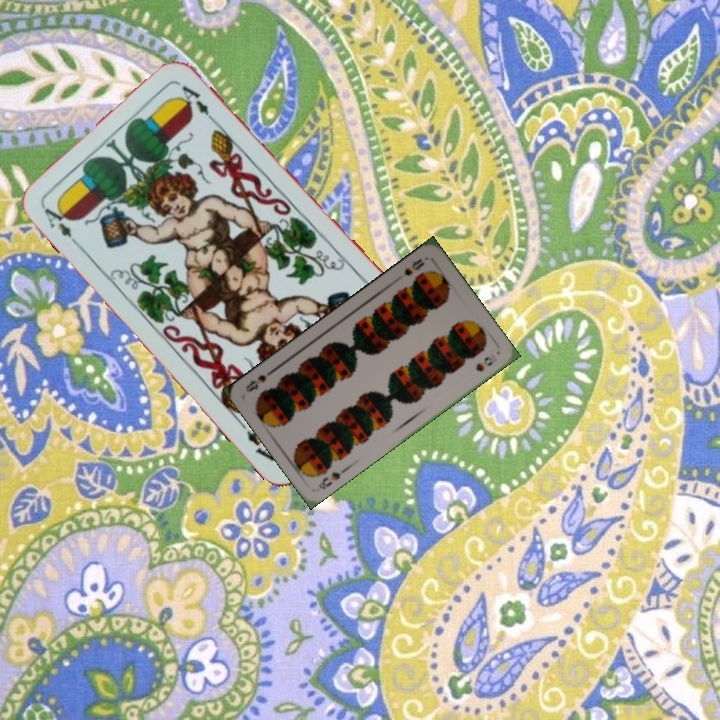EA: (40, 200, 85, 251)
S8: (314, 464, 350, 492), (400, 254, 427, 278)
